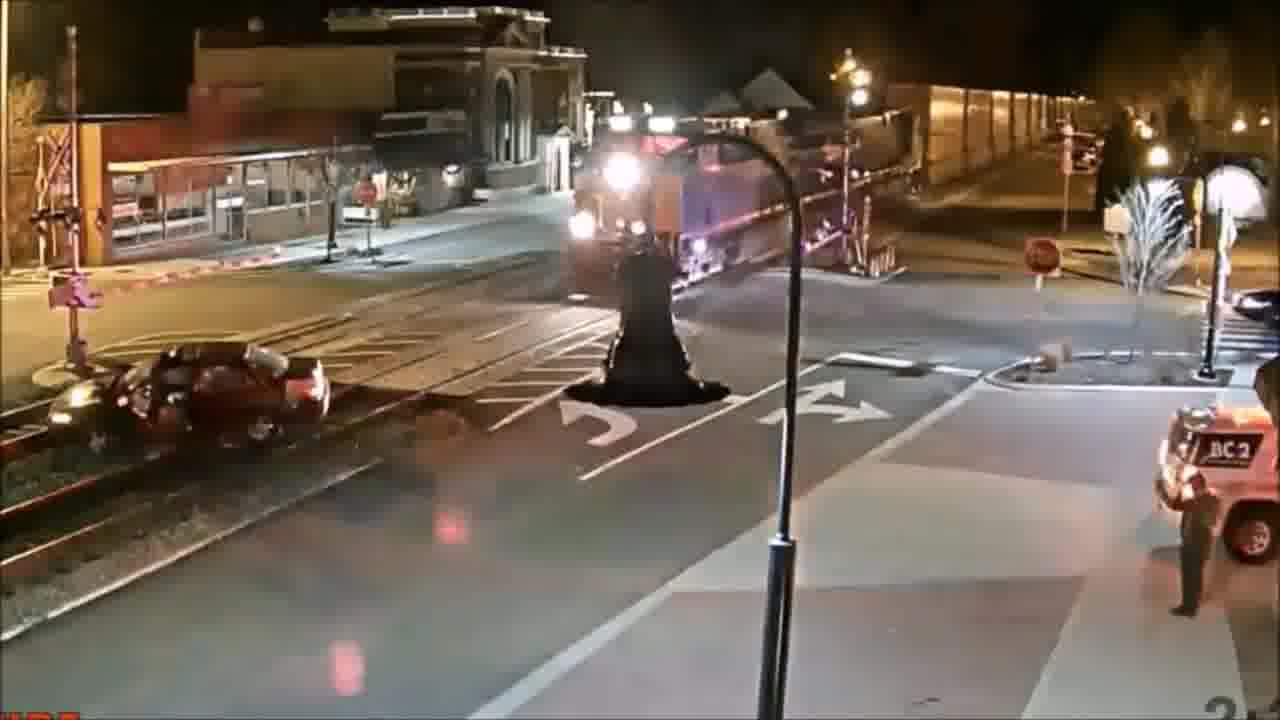crossing railway track: (48, 336, 337, 470)
